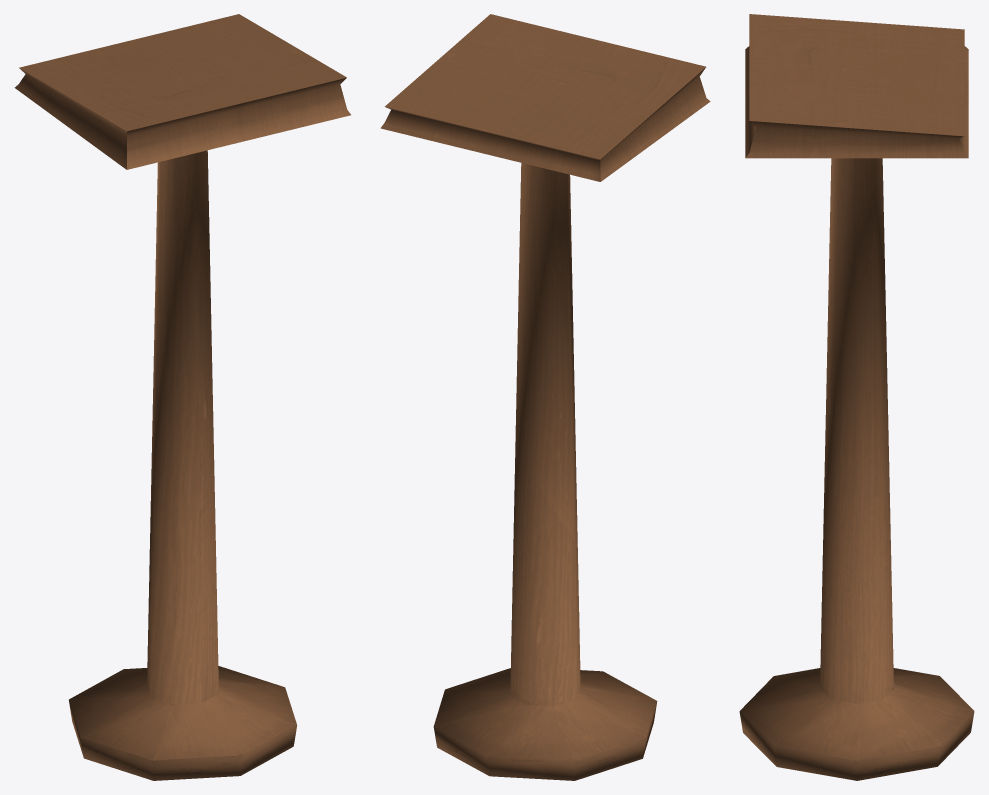
File: bookstand.FBX
3 views of the same model, side by side, from view 1: azimuth 30°, elevation 25°; view 2: azimuth 150°, elevation 25°; view 3: azimuth 270°, elevation 25° (orthographic). The views are drawn at different scales.
Parts seen in each view (by area): view 1: bookstand_1; view 2: bookstand_1; view 3: bookstand_1.
Boxes of the visible parts, x1,y1,x2,y2 form: bookstand_1: [14, 14, 350, 780]; bookstand_1: [380, 14, 710, 780]; bookstand_1: [739, 14, 974, 780].
Bounding box in the file's own units: 0.3619 × 1.03 × 0.3298.
